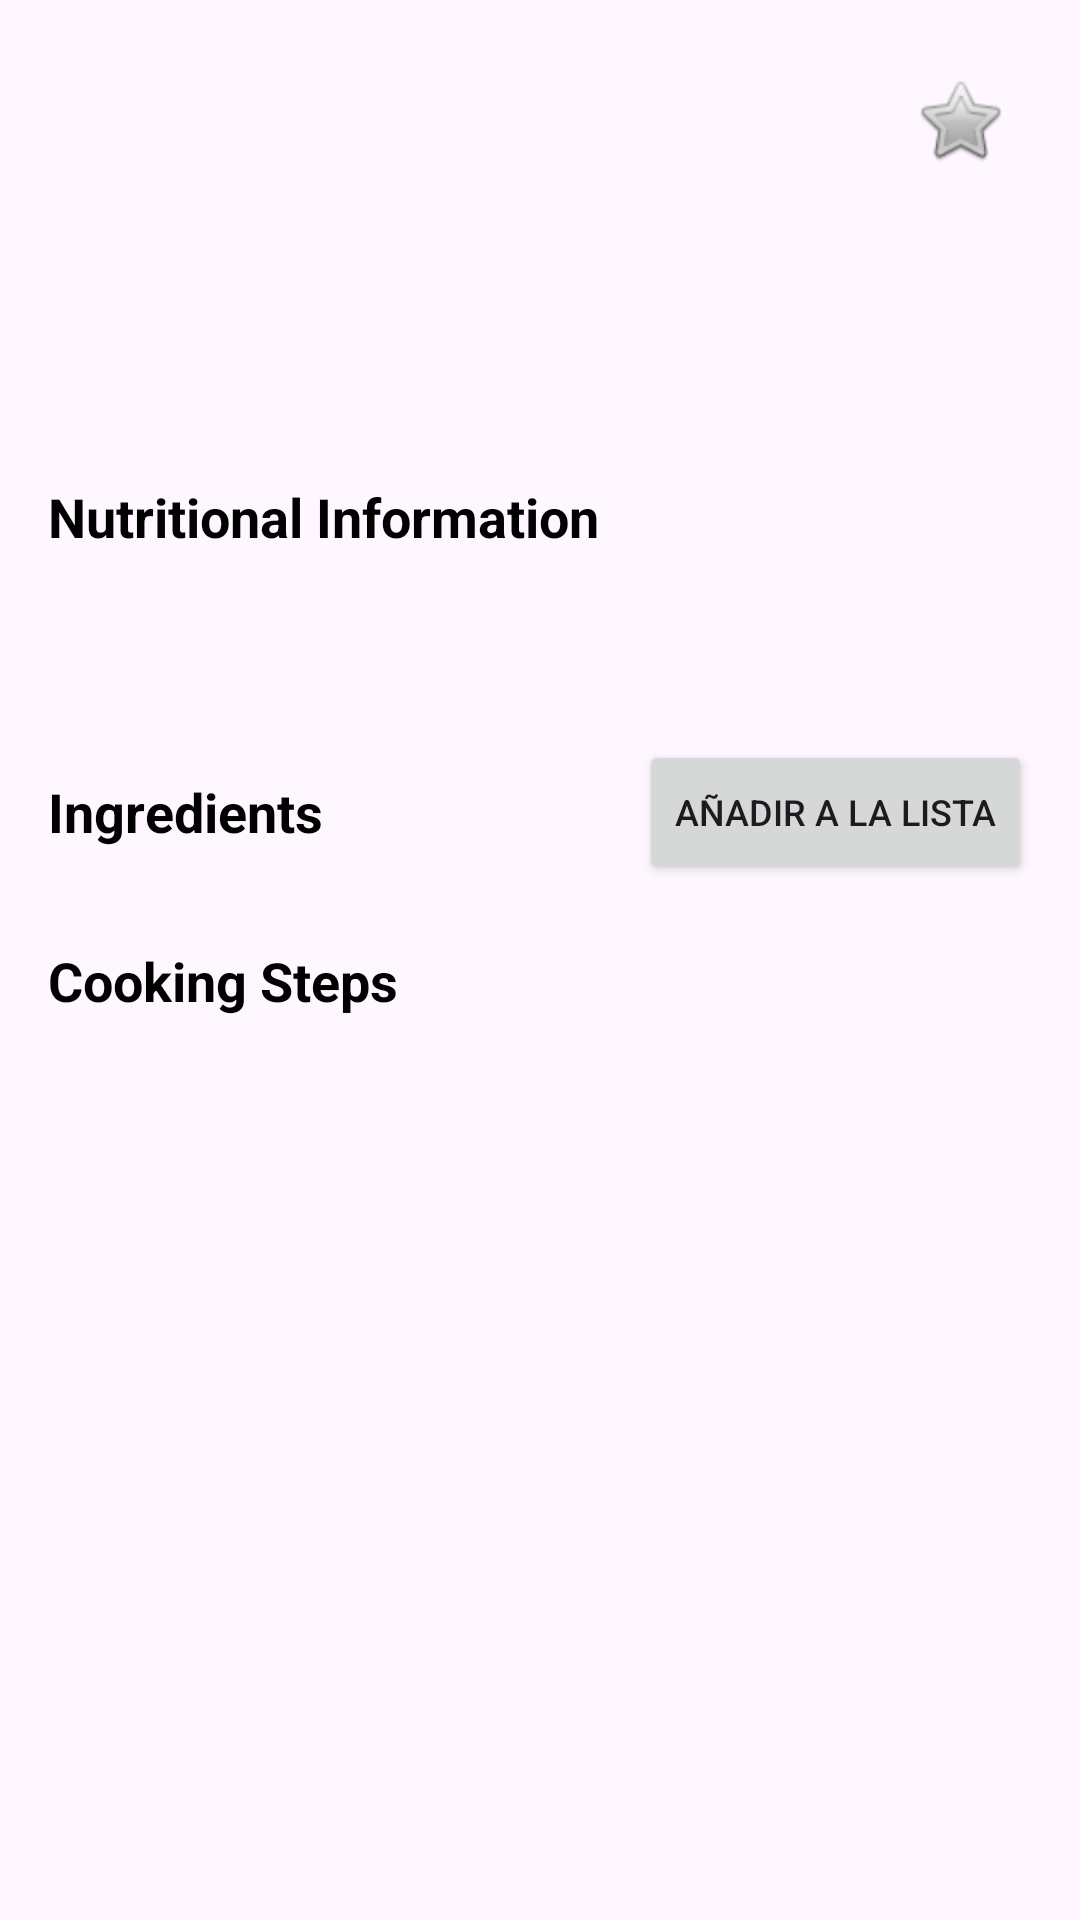

Where icons sit on this 1080 x 1920 app screen, as box=[x1, y1, x2, y2]:
Favorite: box=[921, 82, 1001, 160]
